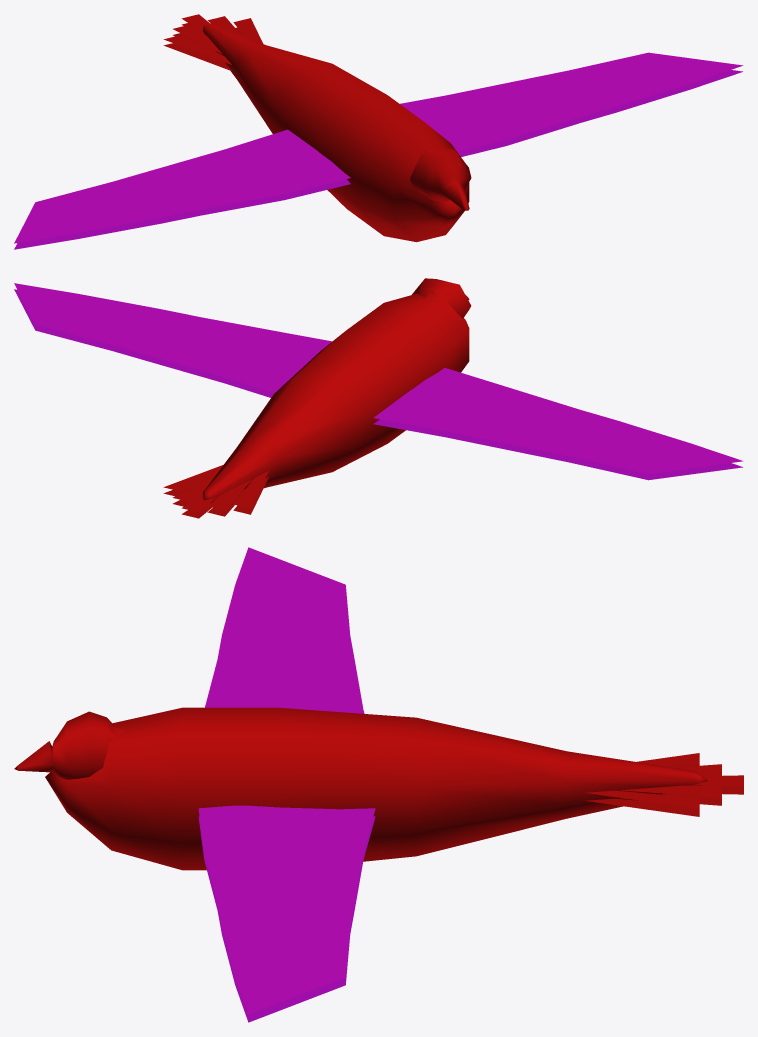
The model's file is eider.glb.
3 renders of one model, top to bottom at view 1: azimuth 30°, elevation 25°; view 2: azimuth 150°, elevation 25°; view 3: azimuth 270°, elevation 25°, orthographic. The views are drawn at different scales.
Parts seen in each view (by area): view 1: bird; view 2: bird; view 3: bird.
Boxes of the visible parts, x1,y1,x2,y2 form: bird: (14,14,743,249); bird: (14,278,743,518); bird: (14,547,743,1022).
Size of the model in its own units: 0.9766 by 0.1328 by 0.6445.
